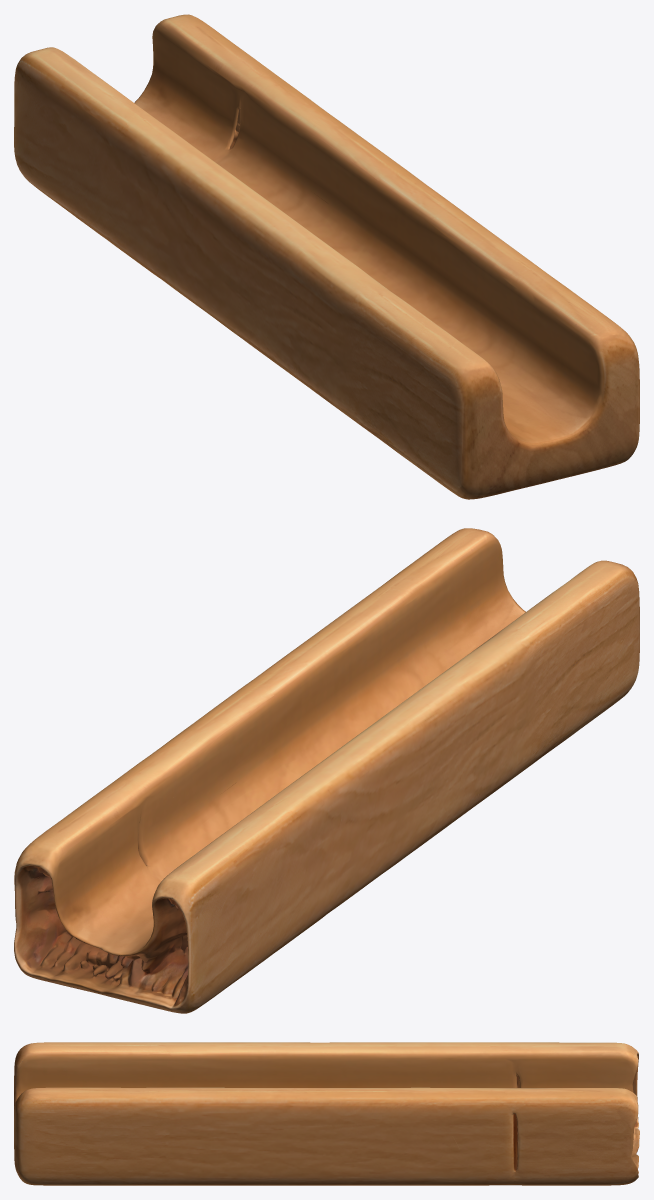
Rendered from tripo_convert_12e60879-16ea-4b4f-b4db-bb3aef551243.fbx.
3 renders of one model, top to bottom at view 1: azimuth 30°, elevation 25°; view 2: azimuth 150°, elevation 25°; view 3: azimuth 270°, elevation 25°, orthographic. The views are drawn at different scales.
Visible parts, largest first — view 1: tripo_node_12e60879; view 2: tripo_node_12e60879; view 3: tripo_node_12e60879.
Part boxes in pixels (box(x1,y1,x2,y2)): tripo_node_12e60879: box(14, 14, 639, 499); tripo_node_12e60879: box(14, 528, 639, 1013); tripo_node_12e60879: box(14, 1042, 639, 1185).
Bounding box in the file's own units: 0.2272 × 0.1592 × 0.98.
1 material, 1 textured.
